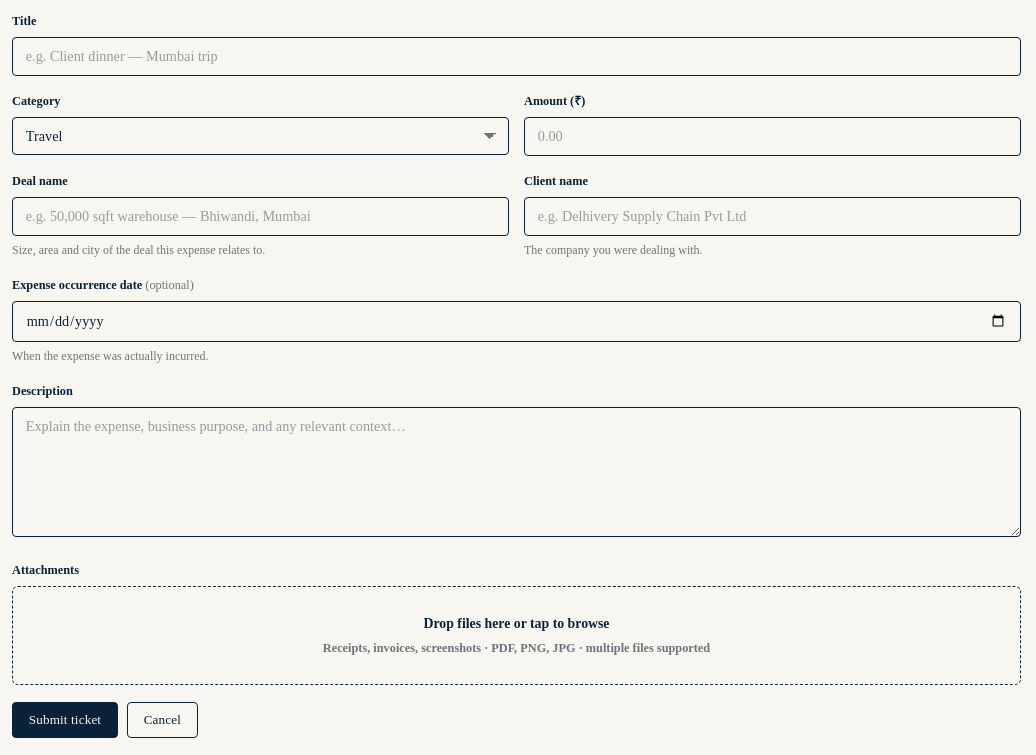
Test: TicketForm attachments › handles non-JSON API errors in create mode
The width and height of the screenshot is (1036, 755).
Type "Client dinner" into the field labelled "Title". click: (516, 56)
box: [12,37,1021,76]
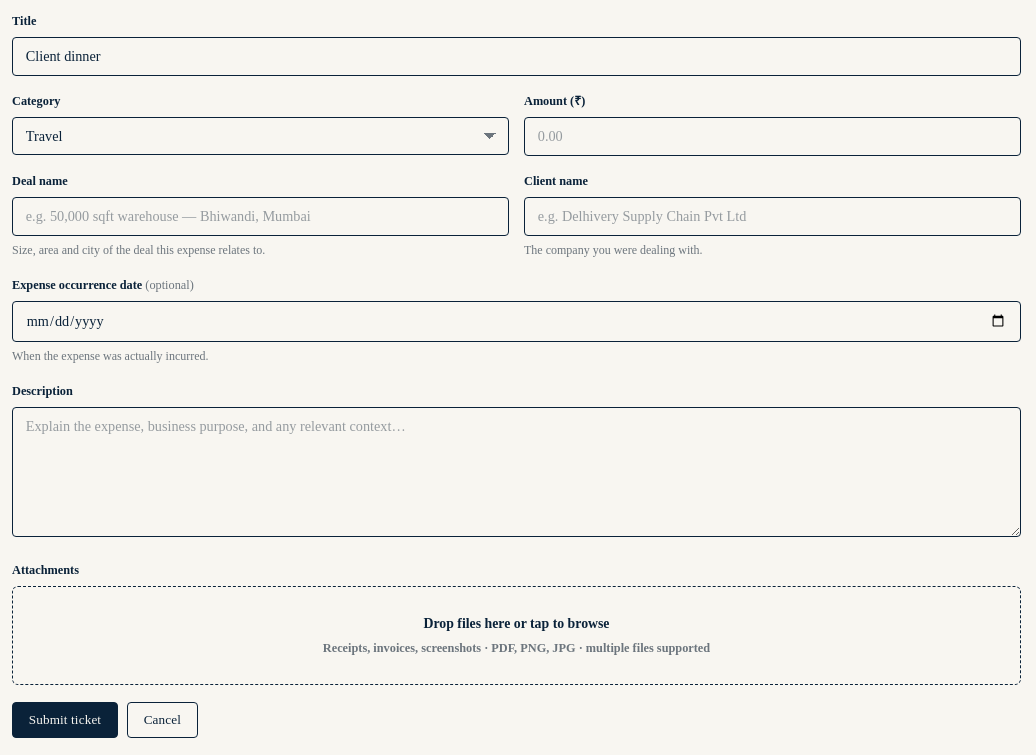
Type "1250" into the number field labelled "Amount (₹)". click: (772, 136)
box: [524,117,1021,156]
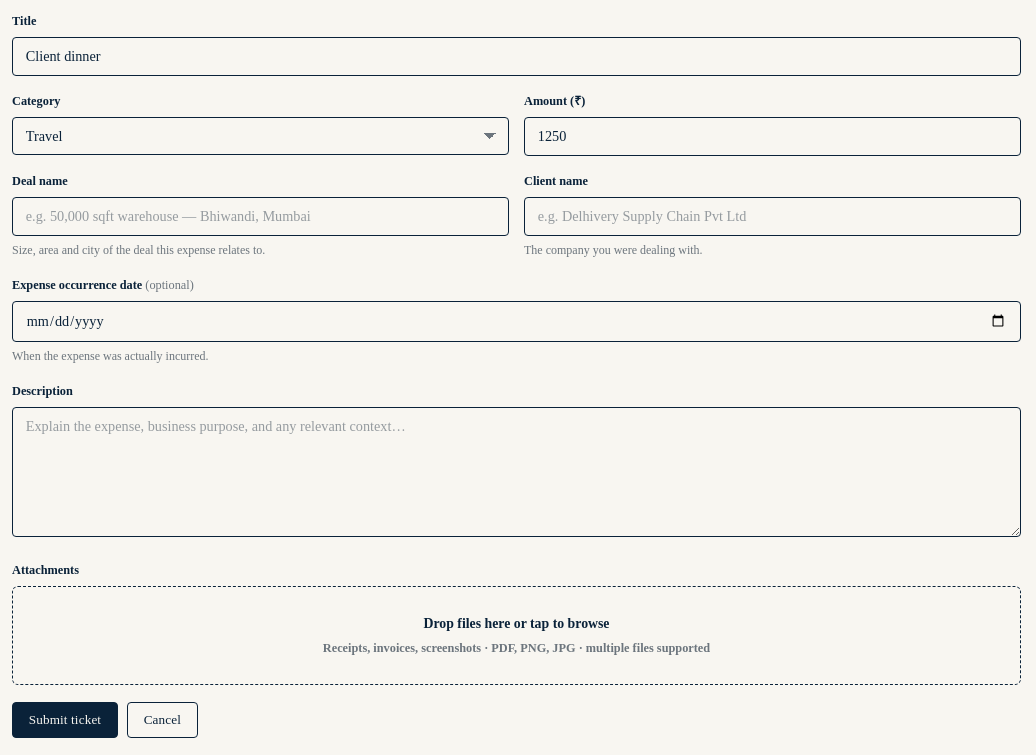
Type "50,000 sqft — Bhiwandi, Mumbai" into the field labelled "Deal name". click: (260, 216)
box: [12,197,509,236]
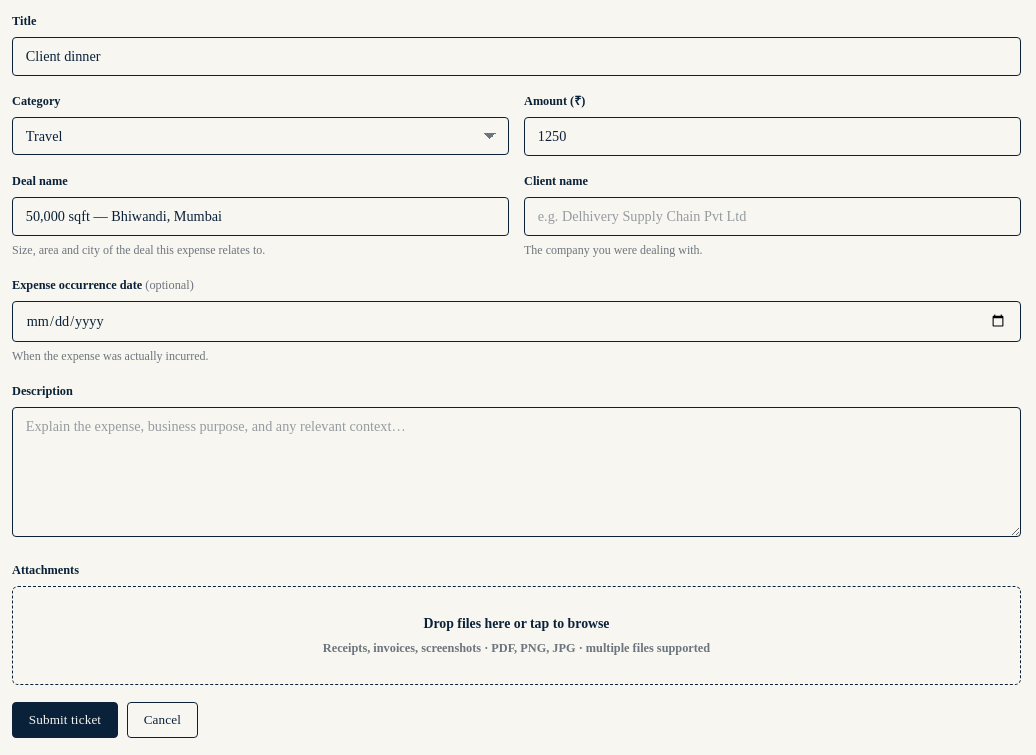
Type "Delhivery Supply Chain Pvt Ltd" into the field labelled "Client name". click: (772, 216)
box: [524,197,1021,236]
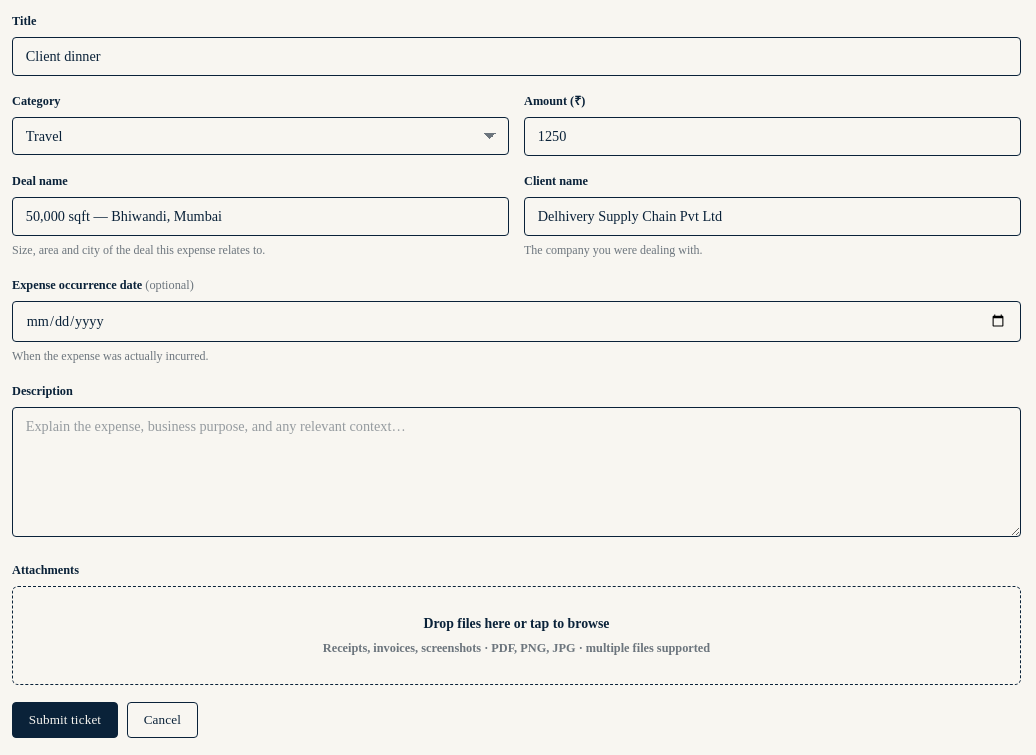
Replace the text in the text box labelled "Description" with "Dinner with client". click: (516, 472)
box: [12,407,1021,537]
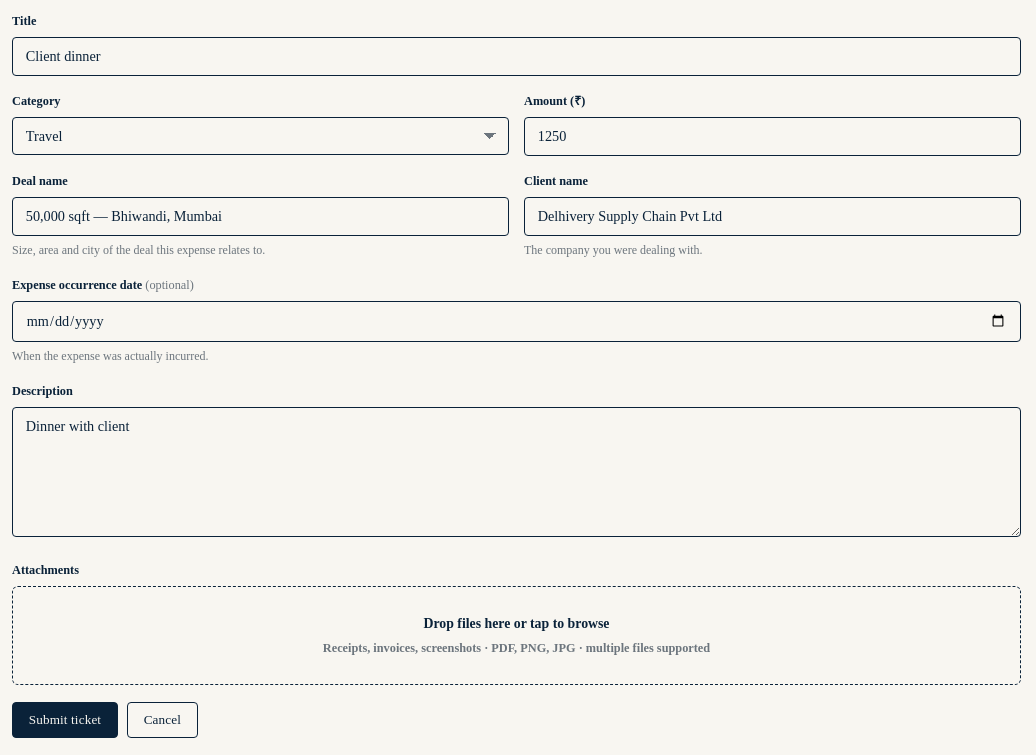
Submit the form
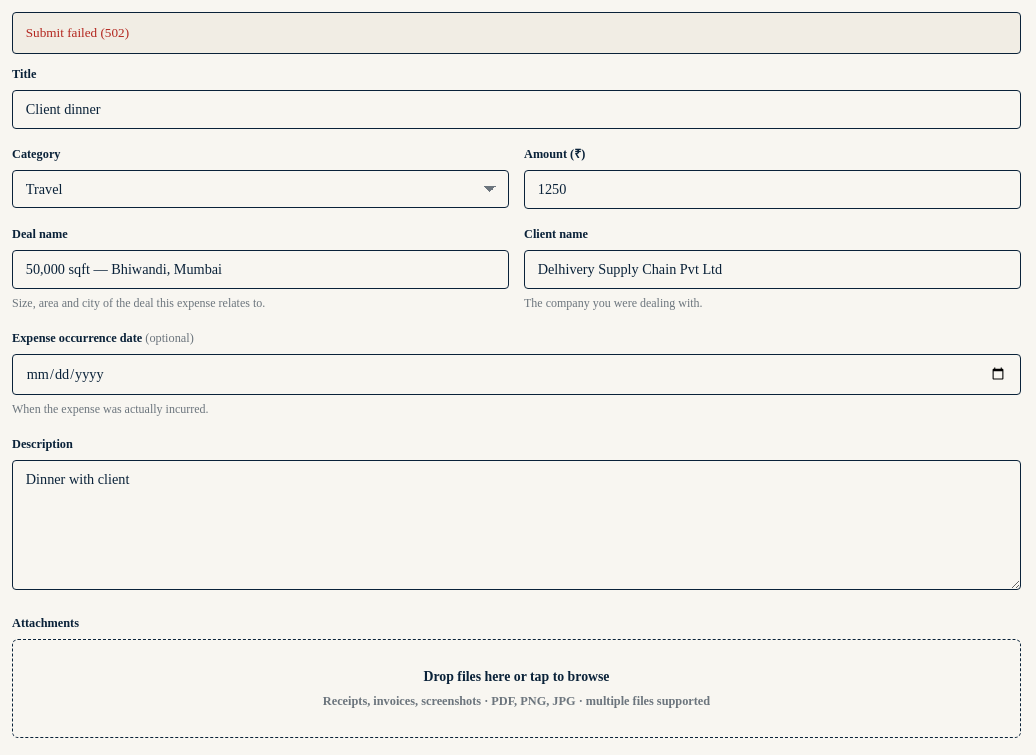
Check: the text "Submit failed (502)" is shown, box [12,12,1021,54]
